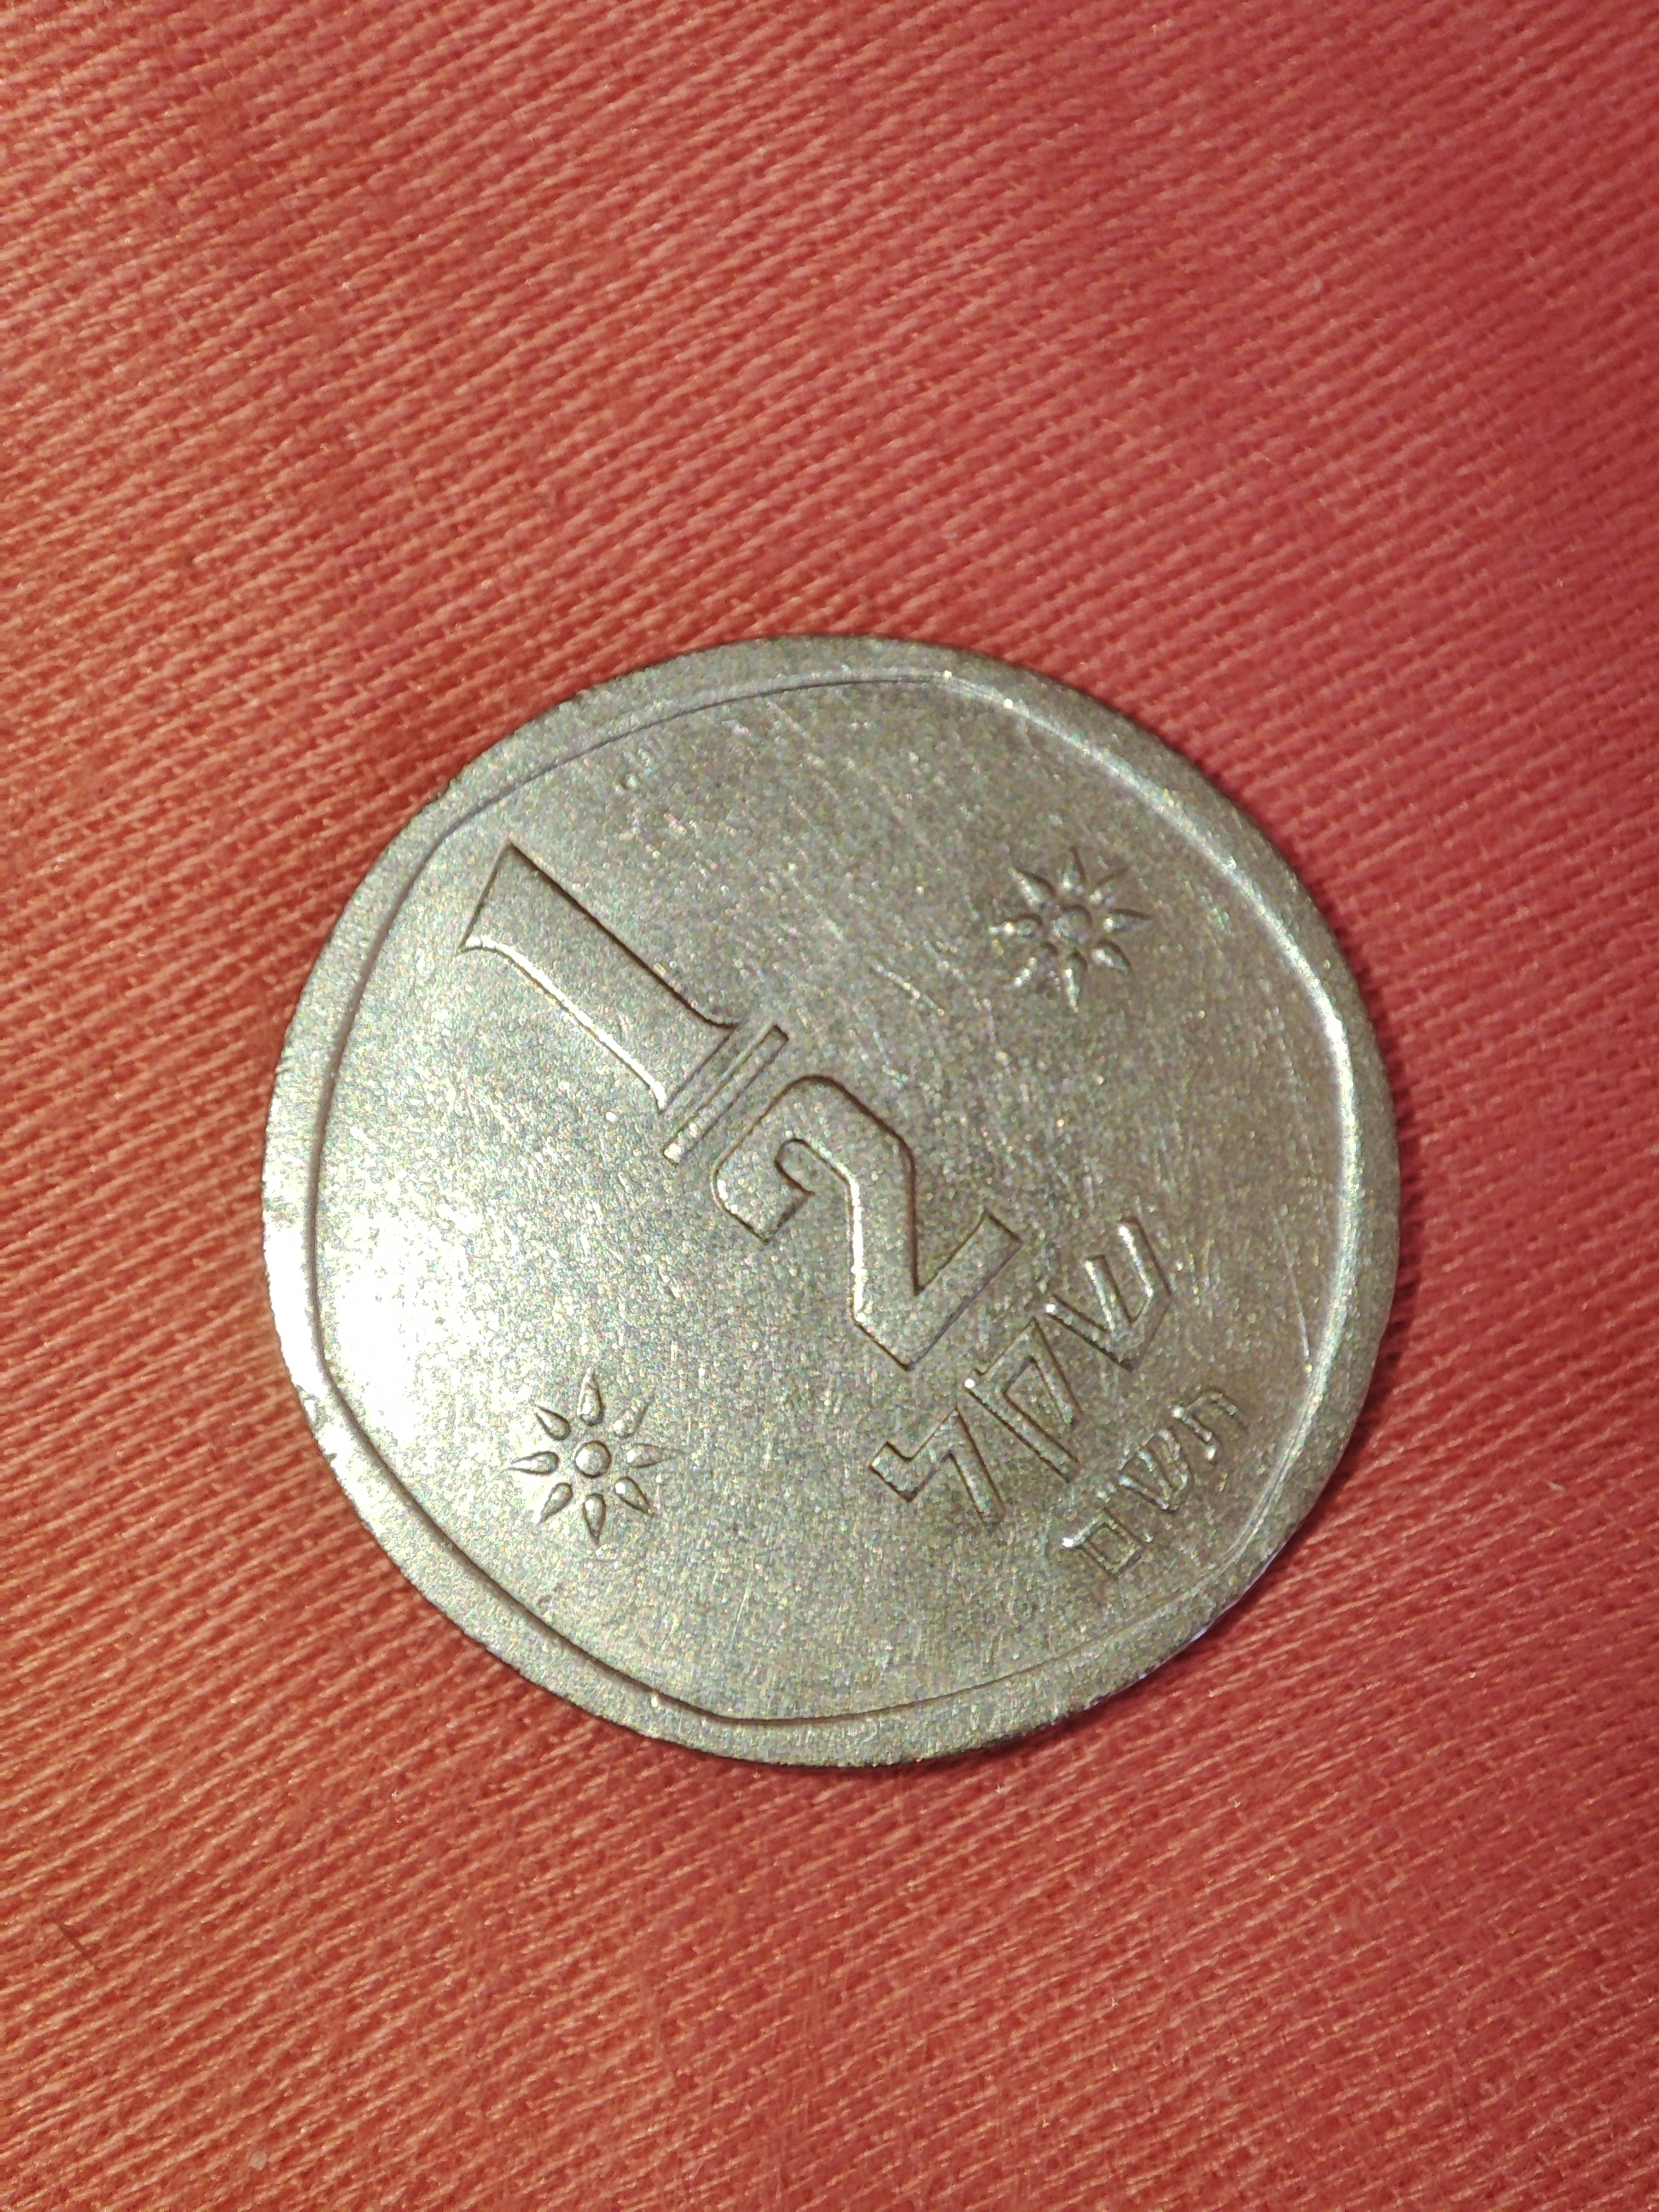1/2 old sheqel: (246, 629, 1415, 1778)
